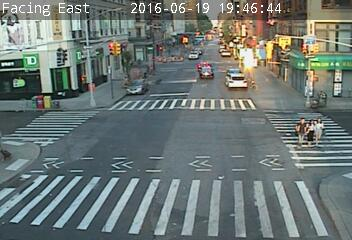neg: (128, 120, 154, 154), (305, 62, 326, 90), (222, 75, 243, 102), (267, 68, 283, 88)
pos: (276, 112, 305, 150), (313, 114, 336, 144)
